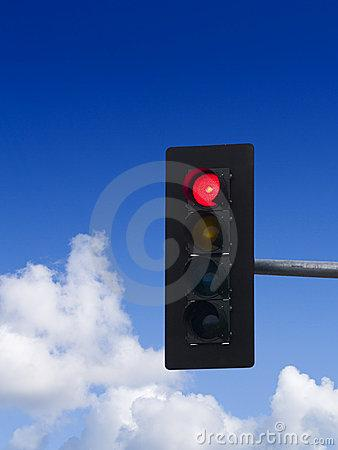red: (153, 133, 266, 372)
